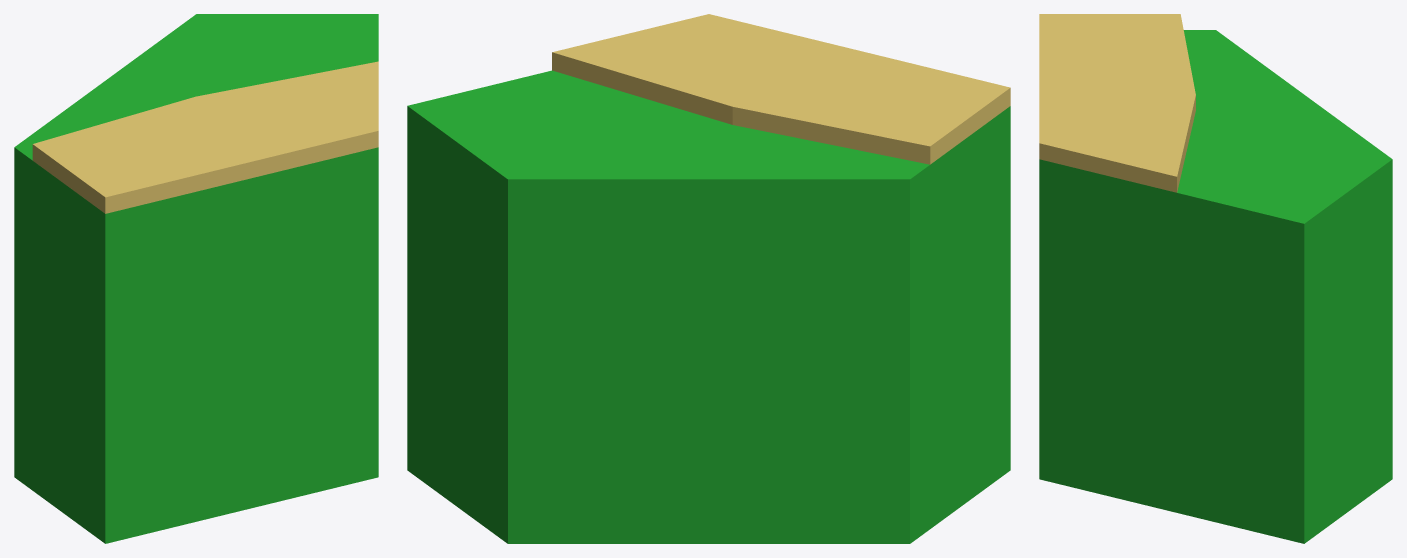
The model's file is module-corner_land_path_straight_002.glb.
3 renders of one model, left to right at view 1: azimuth 30°, elevation 25°; view 2: azimuth 150°, elevation 25°; view 3: azimuth 270°, elevation 25°, orthographic. The views are drawn at different scales.
Parts seen in each view (by area): view 1: module-corner_land_path_straight_002; view 2: module-corner_land_path_straight_002; view 3: module-corner_land_path_straight_002.
Boxes of the visible parts, x1,y1,x2,y2 form: module-corner_land_path_straight_002: [14, 14, 378, 543]; module-corner_land_path_straight_002: [407, 14, 1010, 543]; module-corner_land_path_straight_002: [1039, 14, 1392, 543].
Size of the model in its own units: 0.6495 by 0.525 by 0.5.
